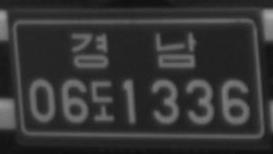0: (27, 76, 56, 125)
1: (118, 77, 142, 125)
3: (149, 77, 181, 126), (184, 77, 215, 126)
6: (219, 76, 251, 127), (59, 76, 89, 125)
경남_D: (69, 30, 198, 70)
도: (90, 78, 116, 123)
